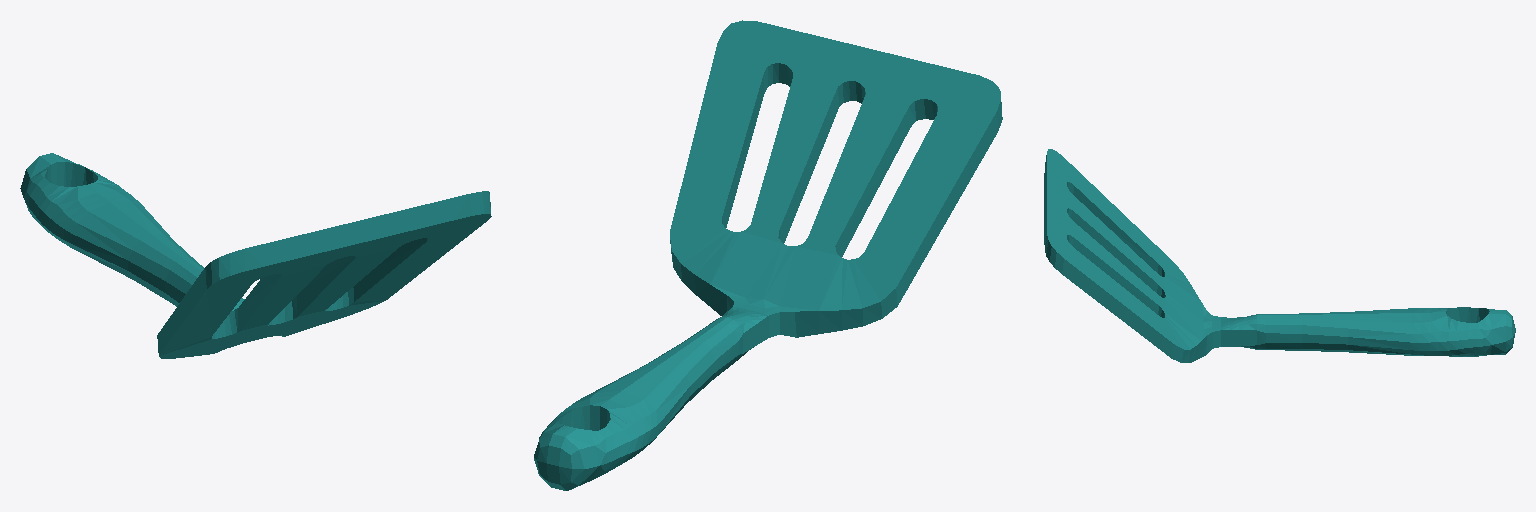
robot.urdf — spatula:
<?xml version="1.0" ?>
<robot name="spatula">
  <link name="base">
  <inertial>
      <origin rpy="0 0 0" xyz="0 0 0"/>
      <mass value="1.0"/>
      <inertia ixx="1" ixy="0" ixz="0" iyy="1" iyz="0" izz="1"/>
  </inertial>
   <visual>
     <origin rpy="0 0 0" xyz="0 0 0"/>
     <geometry>
       <mesh filename="spatula.obj" scale="1 1 1"/>
     </geometry>
      <material name="aqua">
       <color rgba="0.2 0.6 0.6 1"/>
     </material>
   </visual>
   <collision>
     <origin rpy="0 0 0" xyz="0 0 0"/>
     <geometry>
       <mesh filename="spatula_vhacd.obj" scale="1 1 1"/>
     </geometry>
   </collision>
  </link>
  <link name="grasp">
    <inertial>
      <origin rpy="0 0 0" xyz="0 0 0"/>
       <mass value="0.0"/>
       <inertia ixx="1" ixy="0" ixz="0" iyy="1" iyz="0" izz="1"/>
    </inertial>
  </link>
  <joint name="base__grasp" type="fixed">
    <origin xyz="0.0 0.06 0.0" rpy="0.0 0.0 0.0"/>
    <parent link="base"/>
    <child link="grasp"/>
  </joint>
</robot>

--- Facts derived from the render (not from the file) ---
Views: 3 orthographic renders of the robot side by side, from view 1: azimuth 30°, elevation 25°; view 2: azimuth 150°, elevation 25°; view 3: azimuth 270°, elevation 25°.
Robot: spatula — 2 links, 1 joints (1 fixed); root link base; default pose: all joints at 0.
Visible links, largest first — view 1: base; view 2: base; view 3: base.
Boxes of the visible links, x1,y1,x2,y2 form: base: (20,153,491,358); base: (534,20,1002,490); base: (1044,149,1515,362).
Size in the robot's own frame: 0.1361 by 0.2679 by 0.1002 metres.
Meshes: 1 distinct files referenced, 1 mesh visuals loaded (1 OBJ).